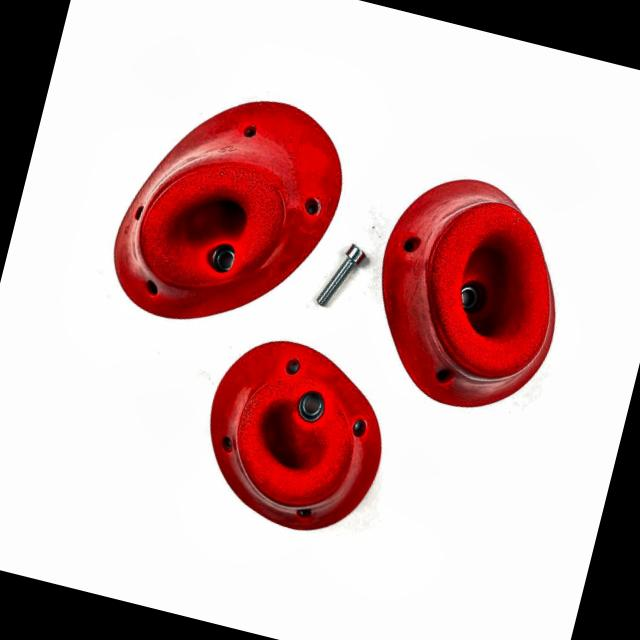Hold: (102, 71, 356, 350), (344, 156, 589, 427), (182, 328, 401, 544), (468, 40, 469, 41)
